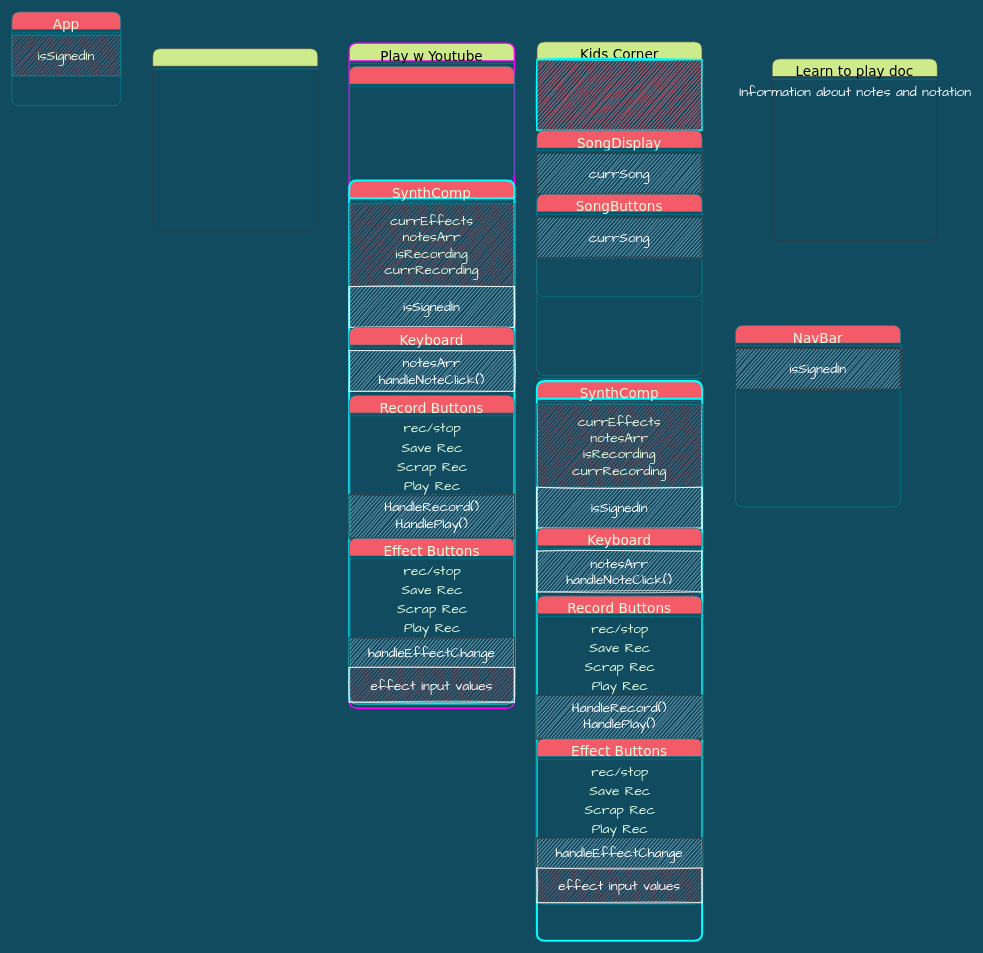
This 983x953 diagram has some shape labels left out. Each missing label, with the centre of its shape:
Home: [235,139]
songsObj selectedSong currSongKeyboard: [619,94]
Youtube: [431,123]
